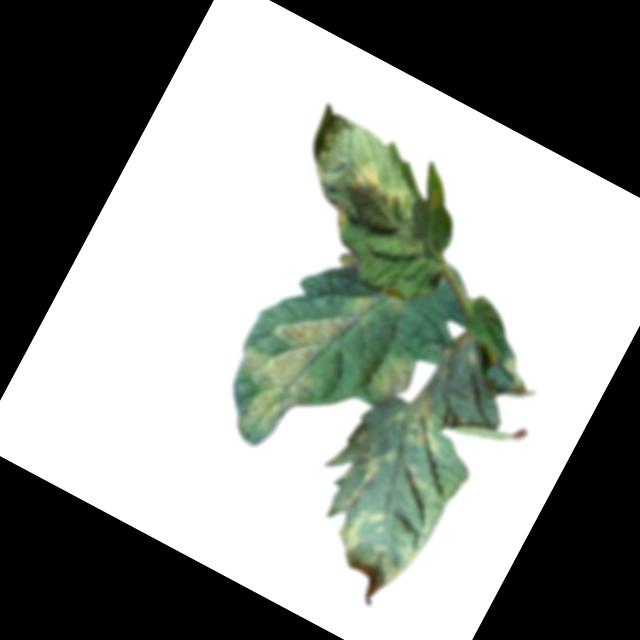Leaf_Mold: (210, 251, 382, 459), (336, 500, 431, 587), (324, 425, 393, 512), (344, 158, 424, 226), (395, 389, 462, 460), (363, 347, 425, 414), (322, 198, 357, 235), (377, 284, 412, 318), (423, 183, 450, 216)
